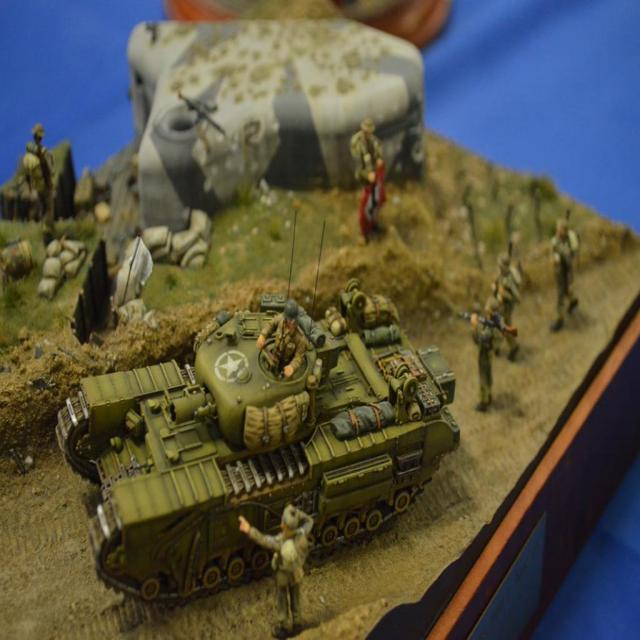tank: (55, 208, 462, 606)
